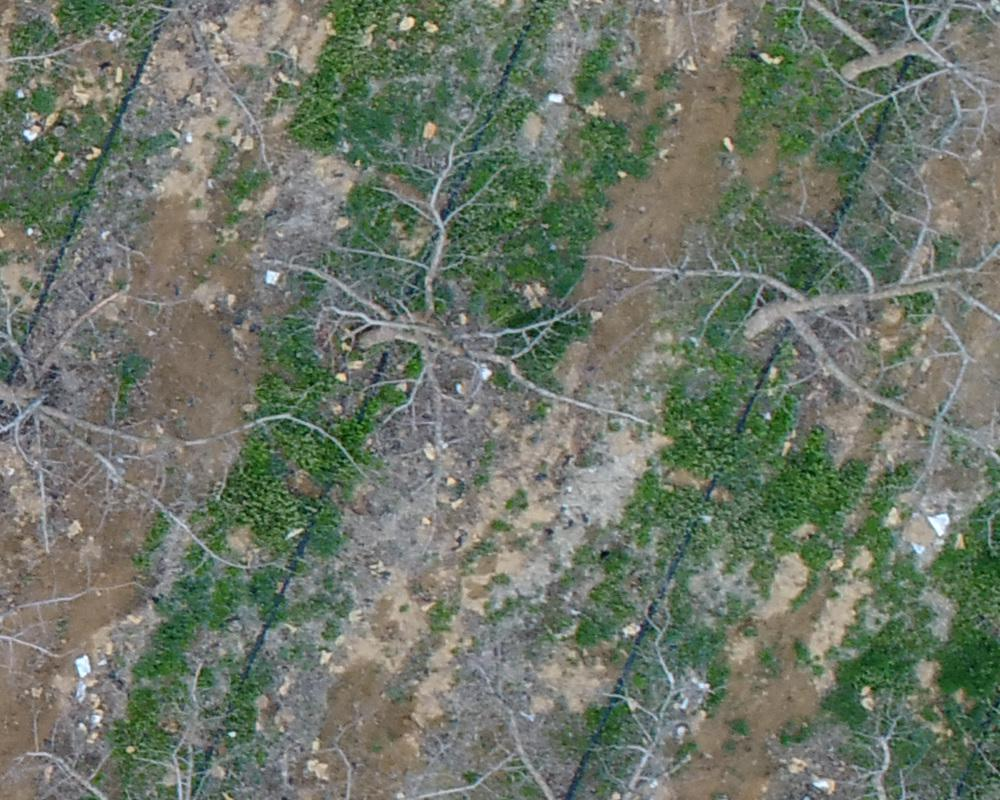apple: (565, 194, 990, 519), (273, 119, 669, 462), (10, 184, 363, 564), (461, 594, 800, 790)
